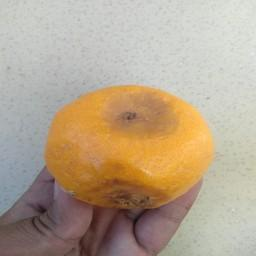Bad_orange: (38, 78, 215, 212)
